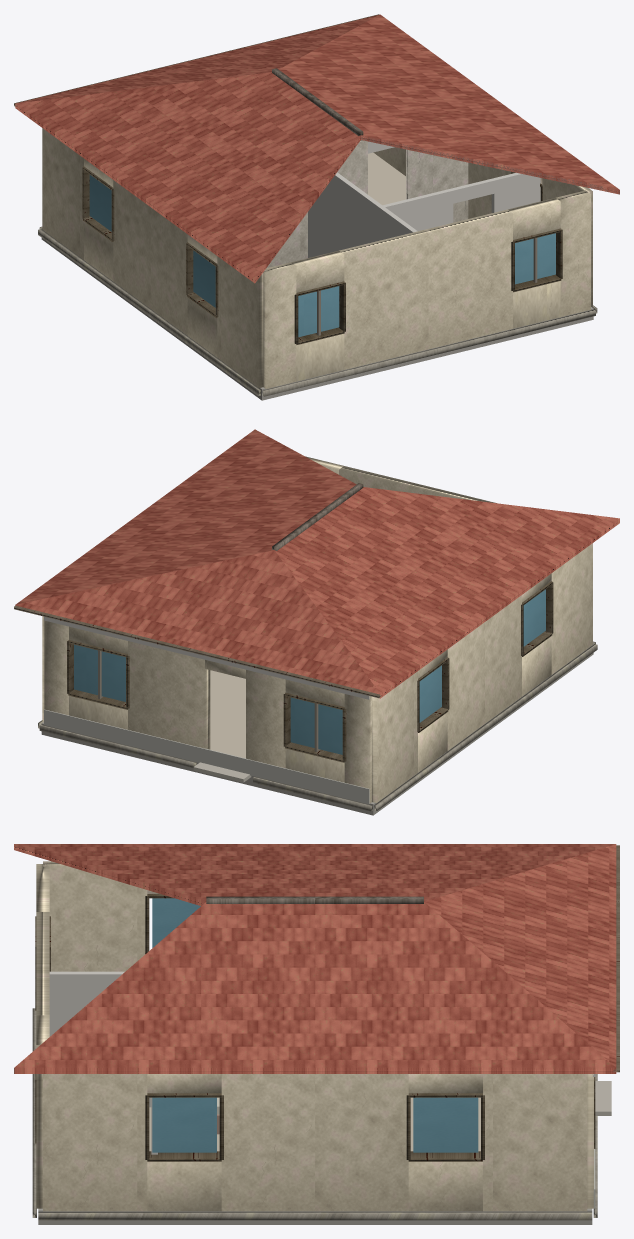
The model's file is HAB_219_Z2_R14_ALBEDO_OTIM_CANDIDATO.gltf.
3 views of the same model, one above another, from view 1: azimuth 30°, elevation 25°; view 2: azimuth 150°, elevation 25°; view 3: azimuth 270°, elevation 25° (orthographic). The views are drawn at different scales.
Parts seen in each view (by area): view 1: HAB_219_COBERTURA_AGUA_ESQUERDA, HAB_219_COBERTURA_AGUA_DIREITA, HAB_219_FACHADA_FUNDOS_PAREDE_1, HAB_219_LATERAL_O_PAREDE_1, HAB_219_COBERTURA_AGUA_FRENTE, HAB_219_DIVISA_COZINHA_QUARTO_PAREDE_FINAL, HAB_219_LATERAL_O_PAREDE_FINAL, HAB_219_REV26_ARREMATE_EMBASAMENTO, HAB_219_LATERAL_O_PAREDE_0, HAB_219_FACHADA_FUNDOS_PAREDE_0, HAB_219_FACHADA_FUNDOS_PAREDE_FINAL, HAB_219_DIVISA_SALA_FUNDO_PAREDE_FINAL (+20 smaller); view 2: HAB_219_COBERTURA_AGUA_ESQUERDA, HAB_219_COBERTURA_AGUA_FRENTE, HAB_219_COBERTURA_AGUA_DIREITA, HAB_219_LATERAL_O_PAREDE_1, HAB_219_FACHADA_FRONTAL_PAREDE_2, HAB_219_COSTEIRA_BARRA_BASE, HAB_219_LATERAL_O_PAREDE_0, HAB_219_LATERAL_O_PAREDE_FINAL, HAB_219_REV26_ARREMATE_EMBASAMENTO, HAB_219_FACHADA_FRONTAL_PAREDE_1, HAB_219_PISO_INTERNO, HAB_219_FACHADA_FRONTAL_PAREDE_0 (+17 smaller); view 3: HAB_219_COBERTURA_AGUA_DIREITA, HAB_219_LATERAL_L_PAREDE_1, HAB_219_COBERTURA_AGUA_ESQUERDA, HAB_219_COBERTURA_AGUA_FRENTE, HAB_219_LATERAL_L_PAREDE_0, HAB_219_LATERAL_L_PAREDE_FINAL, HAB_219_LATERAL_O_PAREDE_FINAL, HAB_219_REV26_ARREMATE_EMBASAMENTO, HAB_219_FUNDACAO, HAB_219_LATERAL_L_PEITORIL_1, HAB_219_LATERAL_L_PEITORIL_0, HAB_219_LATERAL_L_VIDRO_6 (+14 smaller).
Boxes of the visible parts, x1,y1,x2,y2 form: HAB_219_COBERTURA_AGUA_ESQUERDA: (15,72,360,283); HAB_219_COBERTURA_AGUA_DIREITA: (279,14,619,194); HAB_219_FACHADA_FUNDOS_PAREDE_1: (339,209,512,369); HAB_219_LATERAL_O_PAREDE_1: (113,180,187,335); HAB_219_COBERTURA_AGUA_FRENTE: (17,14,379,103); HAB_219_DIVISA_COZINHA_QUARTO_PAREDE_FINAL: (308,172,417,257); HAB_219_LATERAL_O_PAREDE_FINAL: (217,256,267,387); HAB_219_REV26_ARREMATE_EMBASAMENTO: (38,226,597,396); HAB_219_LATERAL_O_PAREDE_0: (42,128,83,259); HAB_219_FACHADA_FUNDOS_PAREDE_0: (263,262,296,388); HAB_219_FACHADA_FUNDOS_PAREDE_FINAL: (556,190,590,316); HAB_219_DIVISA_SALA_FUNDO_PAREDE_FINAL: (406,149,468,222); HAB_219_COBERTURA_AGUA_ESQUERDA: (274,487,619,698); HAB_219_COBERTURA_AGUA_FRENTE: (15,550,380,698); HAB_219_COBERTURA_AGUA_DIREITA: (16,429,356,604); HAB_219_LATERAL_O_PAREDE_1: (447,595,521,750); HAB_219_FACHADA_FRONTAL_PAREDE_2: (128,641,210,749); HAB_219_COSTEIRA_BARRA_BASE: (44,709,369,804); HAB_219_LATERAL_O_PAREDE_0: (372,671,417,802); HAB_219_LATERAL_O_PAREDE_FINAL: (551,543,592,674); HAB_219_REV26_ARREMATE_EMBASAMENTO: (38,641,597,811); HAB_219_FACHADA_FRONTAL_PAREDE_1: (246,670,285,768); HAB_219_PISO_INTERNO: (210,670,245,758); HAB_219_FACHADA_FRONTAL_PAREDE_0: (344,694,371,803); HAB_219_COBERTURA_AGUA_DIREITA: (14,902,616,1073); HAB_219_LATERAL_L_PAREDE_1: (221,1074,408,1211); HAB_219_COBERTURA_AGUA_ESQUERDA: (14,844,615,905); HAB_219_COBERTURA_AGUA_FRENTE: (424,844,616,1067); HAB_219_LATERAL_L_PAREDE_0: (483,1074,587,1211); HAB_219_LATERAL_L_PAREDE_FINAL: (43,1074,147,1211); HAB_219_LATERAL_O_PAREDE_FINAL: (43,861,147,971); HAB_219_REV26_ARREMATE_EMBASAMENTO: (32,1008,597,1220); HAB_219_FUNDACAO: (38,1208,592,1224); HAB_219_LATERAL_L_PEITORIL_1: (147,1161,221,1211); HAB_219_LATERAL_L_PEITORIL_0: (408,1161,482,1211); HAB_219_LATERAL_L_VIDRO_6: (413,1097,478,1152).
Bounding box in the file's own units: 8.77 × 4.11 × 10.02.
Materials: 9 (9 with a texture image).
